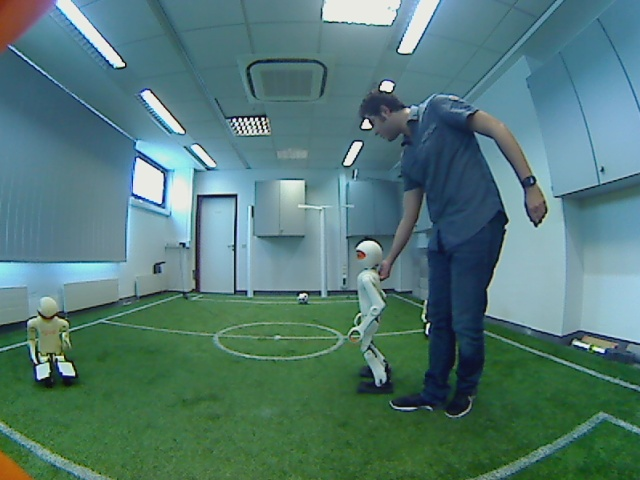ball: (293, 289, 315, 309)
robot: (344, 241, 400, 395), (19, 291, 88, 387), (414, 281, 431, 342)
